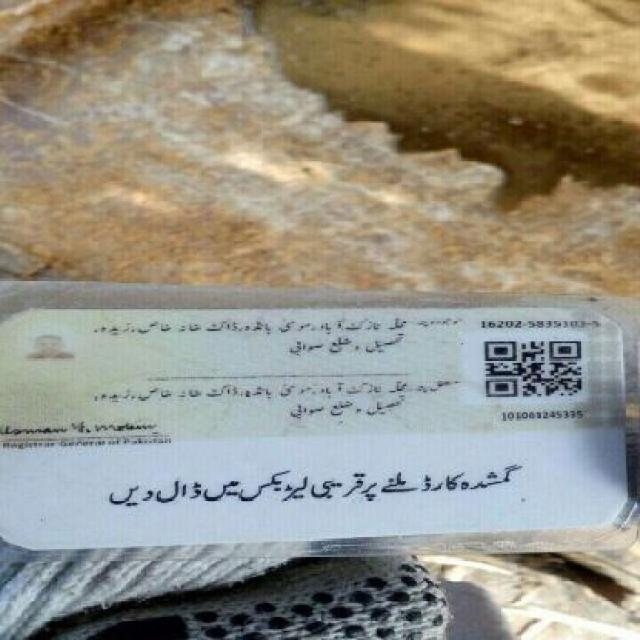Back: (3, 302, 628, 548)
